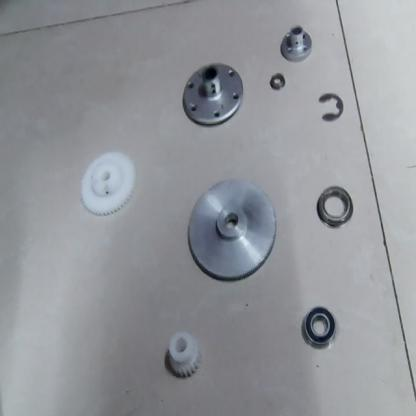FOD: (182, 170, 280, 283), (177, 58, 245, 134), (73, 147, 139, 219), (166, 327, 201, 383), (316, 179, 354, 230), (300, 306, 338, 348), (274, 23, 312, 64), (314, 86, 344, 126), (268, 72, 288, 93)
